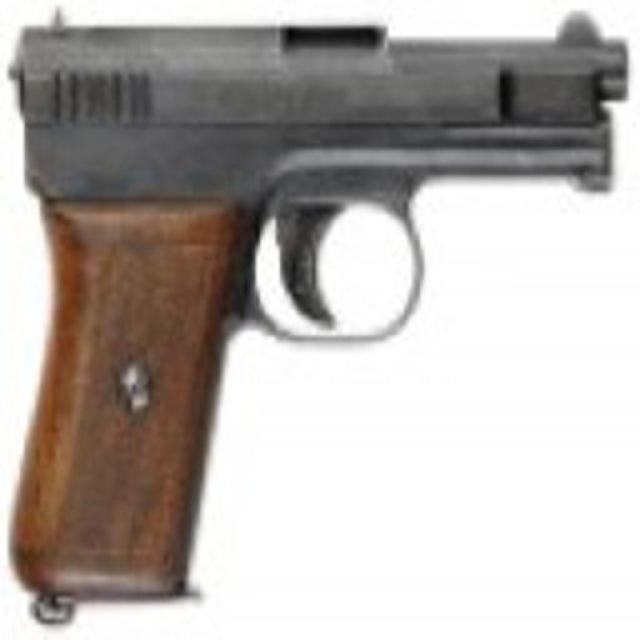pistol: (15, 10, 620, 586)
